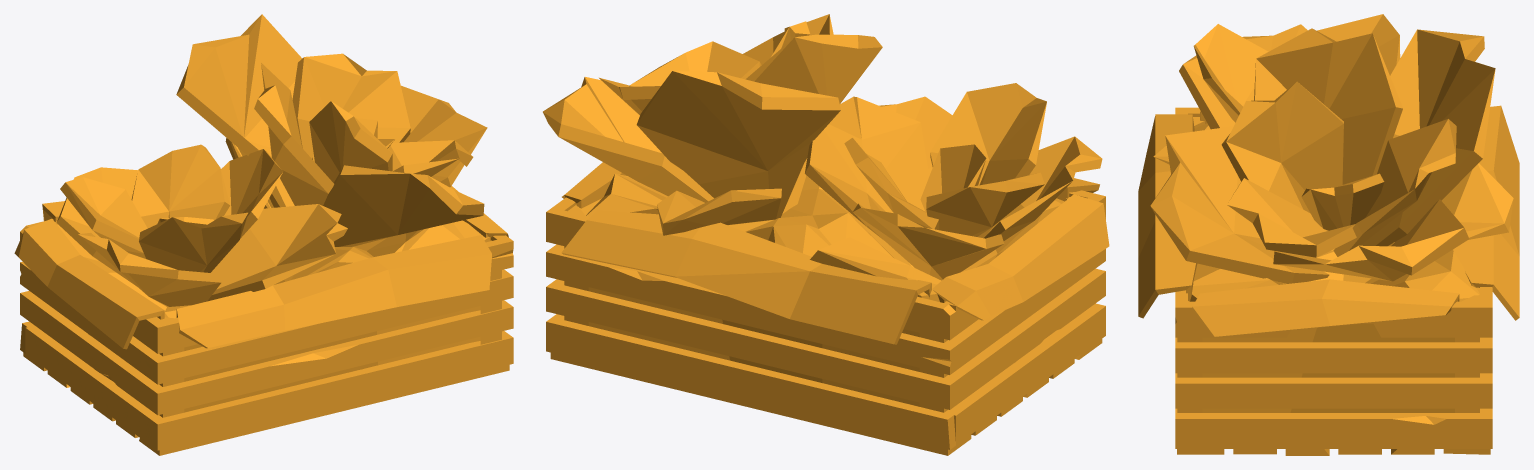
Rendered from SM_Crate_Wood_Medium_Paper_Salad.fbx.
3 renders of one model, left to right at view 1: azimuth 30°, elevation 25°; view 2: azimuth 150°, elevation 25°; view 3: azimuth 270°, elevation 25°, orthographic. The views are drawn at different scales.
Visible parts, largest first — view 1: crate-wood-medium-paper-salad; view 2: crate-wood-medium-paper-salad; view 3: crate-wood-medium-paper-salad.
Boxes of the visible parts, box(x1,y1,x2,y2) form: crate-wood-medium-paper-salad: box(14, 14, 513, 455); crate-wood-medium-paper-salad: box(543, 14, 1109, 455); crate-wood-medium-paper-salad: box(1138, 14, 1519, 455).
Size of the model in its own units: 0.7164 by 0.4658 by 0.4887.
